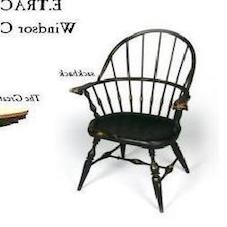chair: (57, 20, 214, 212)
